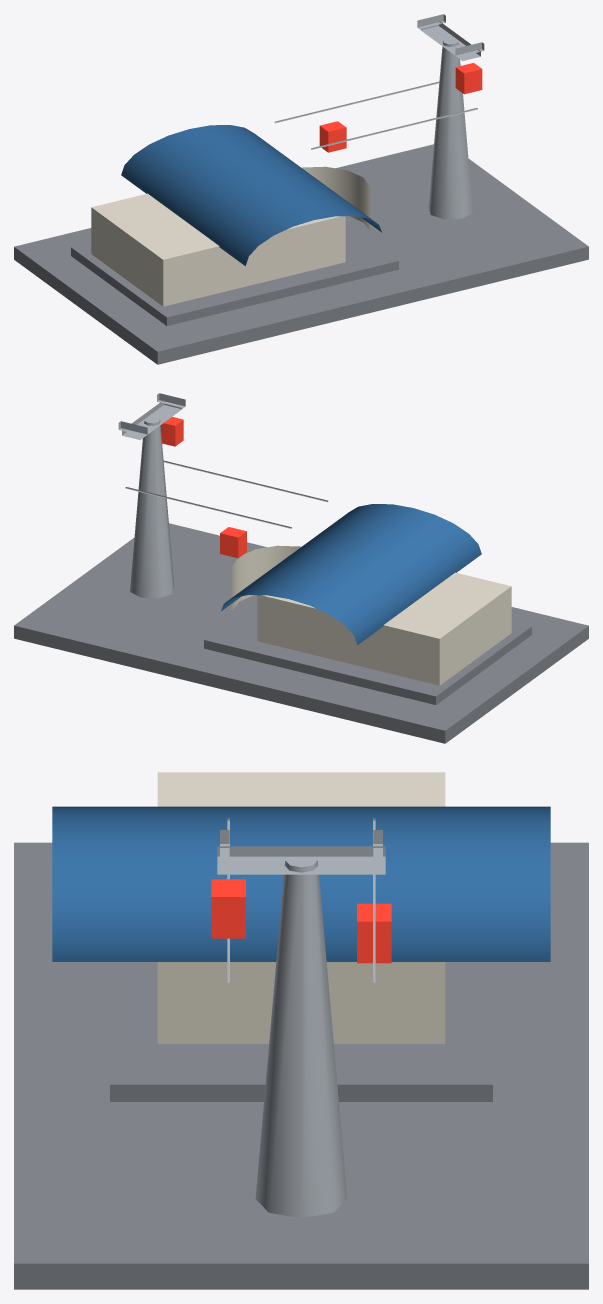
File: lm_24_doi_robin_cable_car_station.glb
3 renders of one model, top to bottom at view 1: azimuth 30°, elevation 25°; view 2: azimuth 150°, elevation 25°; view 3: azimuth 270°, elevation 25°, orthographic. The views are drawn at different scales.
Visible parts, largest first — view 1: Robin_Hill_Terrace, Turnaround_Vault_Canopy, Terminal_Machinery_Hall, CableCar_Steel_Pylon_And_Cables, Gondola_Cabins; view 2: Robin_Hill_Terrace, Turnaround_Vault_Canopy, Terminal_Machinery_Hall, CableCar_Steel_Pylon_And_Cables, Gondola_Cabins; view 3: Robin_Hill_Terrace, Turnaround_Vault_Canopy, Terminal_Machinery_Hall, CableCar_Steel_Pylon_And_Cables, Gondola_Cabins.
Part boxes in pixels (<box>): Robin_Hill_Terrace: <box>14,144,588,364</box>; Turnaround_Vault_Canopy: <box>121,125,381,265</box>; Terminal_Machinery_Hall: <box>91,166,370,306</box>; CableCar_Steel_Pylon_And_Cables: <box>274,14,484,219</box>; Gondola_Cabins: <box>319,63,482,152</box>; Robin_Hill_Terrace: <box>14,523,588,743</box>; Turnaround_Vault_Canopy: <box>221,504,481,644</box>; Terminal_Machinery_Hall: <box>232,545,511,685</box>; CableCar_Steel_Pylon_And_Cables: <box>118,393,328,598</box>; Gondola_Cabins: <box>160,417,246,558</box>; Robin_Hill_Terrace: <box>14,842,588,1289</box>; Turnaround_Vault_Canopy: <box>52,806,550,961</box>; Terminal_Machinery_Hall: <box>157,772,445,1043</box>; CableCar_Steel_Pylon_And_Cables: <box>217,818,385,1218</box>; Gondola_Cabins: <box>211,879,391,963</box>.
Bounding box in the file's own units: 52 × 22 × 30.
